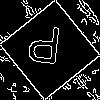P: (25, 25, 63, 73)
